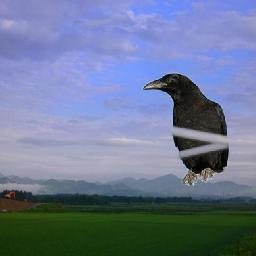Crow: (141, 72, 229, 187)
